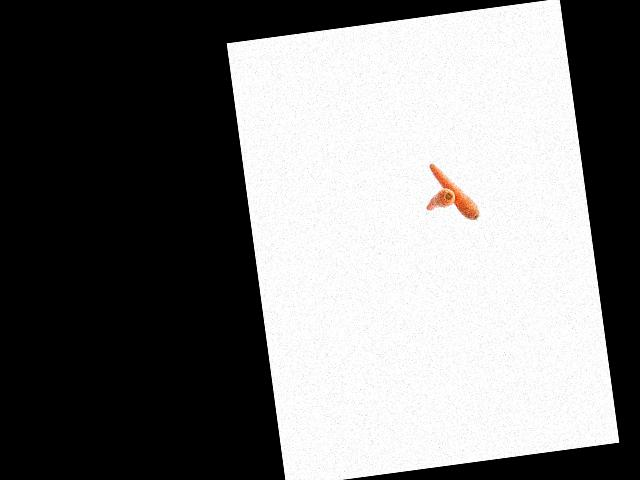carrot: (422, 186, 459, 214)
